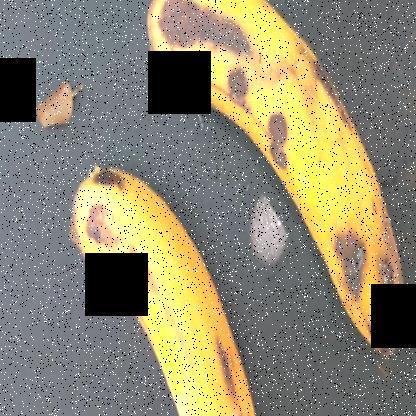overripe: (148, 1, 415, 354), (57, 148, 266, 415)
